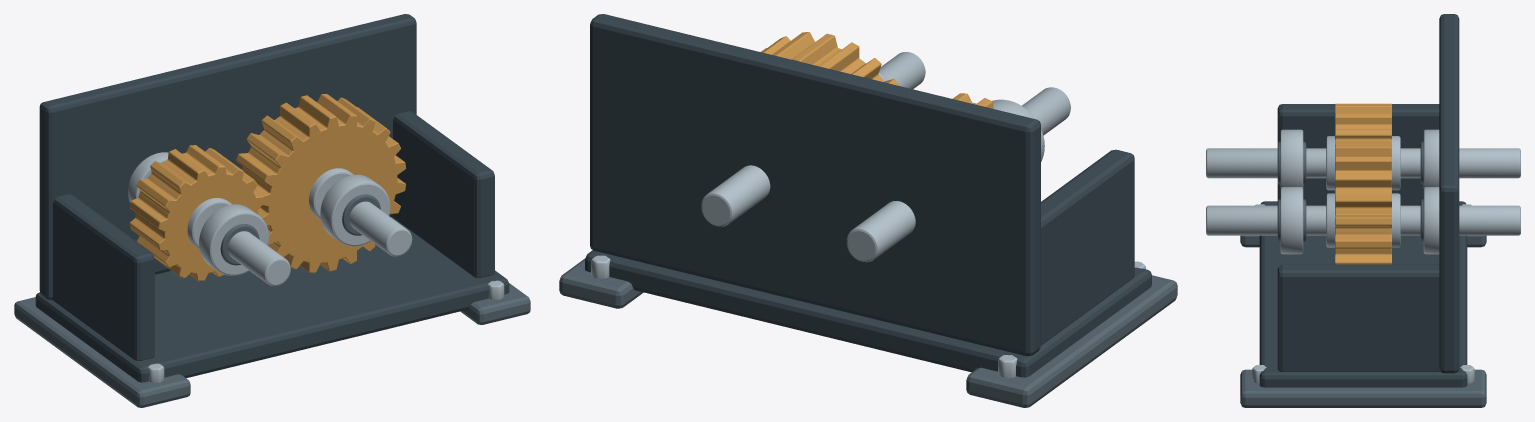
The model's file is gearbox.glb.
3 views of the same model, side by side, from view 1: azimuth 30°, elevation 25°; view 2: azimuth 150°, elevation 25°; view 3: azimuth 270°, elevation 25° (orthographic). The views are drawn at different scales.
Parts seen in each view (by area): view 1: Rear cutaway wall.004, Reducer base.004, 22-tooth spur gear.004, Bearing support.008, Bearing support.009, 16-tooth spur gear.004, Mounting foot.008, Bearing outer race.018, Bearing outer race.016, Transmission shaft.009, Transmission shaft.008, Mounting foot.009 (+5 smaller); view 2: Rear cutaway wall.004, Reducer base.004, Bearing support.008, Mounting foot.008, Transmission shaft.008, Transmission shaft.009, 22-tooth spur gear.004, Mounting foot.009; view 3: Bearing support.009, Reducer base.004, Rear cutaway wall.004, 22-tooth spur gear.004, Mounting foot.009, Transmission shaft.008, Transmission shaft.009, Bearing support.008, 16-tooth spur gear.004, Bearing outer race.018, Bearing outer race.016, Bearing outer race.019 (+6 smaller).
Boxes of the visible parts, <box> form: Rear cutaway wall.004: <box>39,14,416,299</box>; Reducer base.004: <box>35,217,509,382</box>; 22-tooth spur gear.004: <box>236,94,406,273</box>; Bearing support.008: <box>52,194,154,360</box>; Bearing support.009: <box>392,111,494,278</box>; 16-tooth spur gear.004: <box>129,145,263,281</box>; Mounting foot.008: <box>14,297,190,407</box>; Bearing outer race.018: <box>320,174,390,246</box>; Bearing outer race.016: <box>199,204,268,275</box>; Transmission shaft.009: <box>325,187,412,256</box>; Transmission shaft.008: <box>204,216,290,286</box>; Mounting foot.009: <box>460,283,530,324</box>; Rear cutaway wall.004: <box>590,14,1040,356</box>; Reducer base.004: <box>585,250,1151,377</box>; Bearing support.008: <box>1041,149,1134,345</box>; Mounting foot.008: <box>966,275,1177,407</box>; Transmission shaft.008: <box>846,87,1070,262</box>; Transmission shaft.009: <box>701,52,925,226</box>; 22-tooth spur gear.004: <box>761,32,899,85</box>; Mounting foot.009: <box>559,258,643,308</box>; Bearing support.009: <box>1277,264,1440,371</box>; Reducer base.004: <box>1259,201,1467,387</box>; Rear cutaway wall.004: <box>1439,14,1459,373</box>; 22-tooth spur gear.004: <box>1335,138,1391,264</box>; Mounting foot.009: <box>1240,369,1486,407</box>; Transmission shaft.008: <box>1206,148,1520,178</box>; Transmission shaft.009: <box>1206,205,1520,235</box>; Bearing support.008: <box>1277,104,1439,205</box>; 16-tooth spur gear.004: <box>1335,103,1391,138</box>; Bearing outer race.018: <box>1280,187,1303,254</box>; Bearing outer race.016: <box>1280,129,1303,188</box>; Bearing outer race.019: <box>1423,187,1439,254</box>.
Size of the model in its own units: 3.08 by 1.67 by 2.2.
